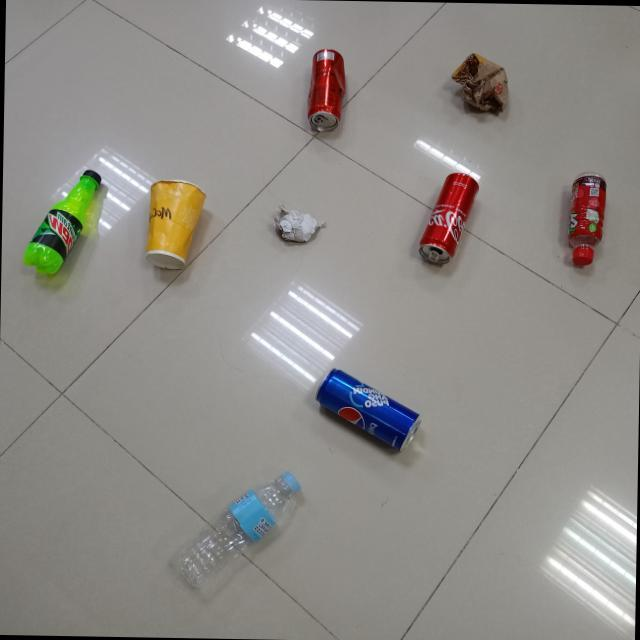recyclable waste: (164, 461, 306, 594), (306, 361, 426, 456), (14, 162, 107, 280), (414, 164, 484, 270), (140, 172, 210, 271), (561, 166, 611, 272), (447, 48, 515, 120), (302, 42, 352, 136), (272, 198, 326, 246)
